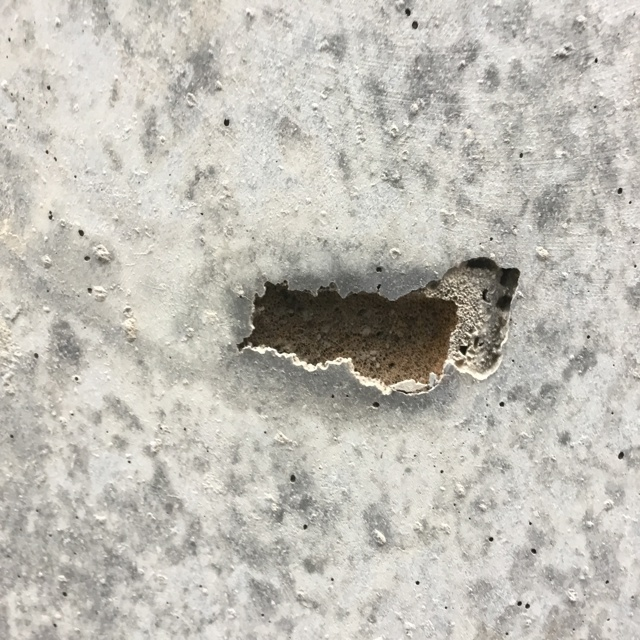spall: (225, 248, 529, 410)
